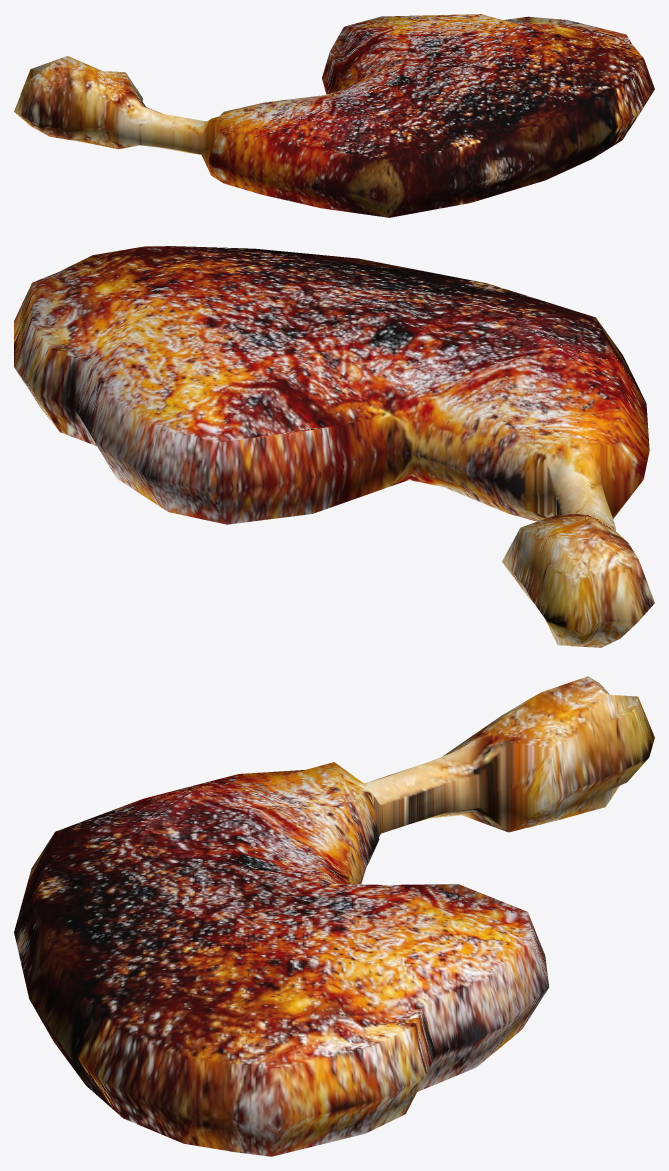
Rendered from chicken2.fbx.
The picture shows the model from 3 angles, top to bottom: view 1: azimuth 30°, elevation 25°; view 2: azimuth 150°, elevation 25°; view 3: azimuth 270°, elevation 25°; orthographic projection. The views are drawn at different scales.
Parts seen in each view (by area): view 1: base; view 2: base; view 3: base.
Part boxes in pixels (<box>): base: <box>14,14,654,217</box>; base: <box>14,246,654,647</box>; base: <box>14,676,654,1156</box>.
Size of the model in its own units: 237 by 34.38 by 159.
Materials: 1 (1 with a texture image).
